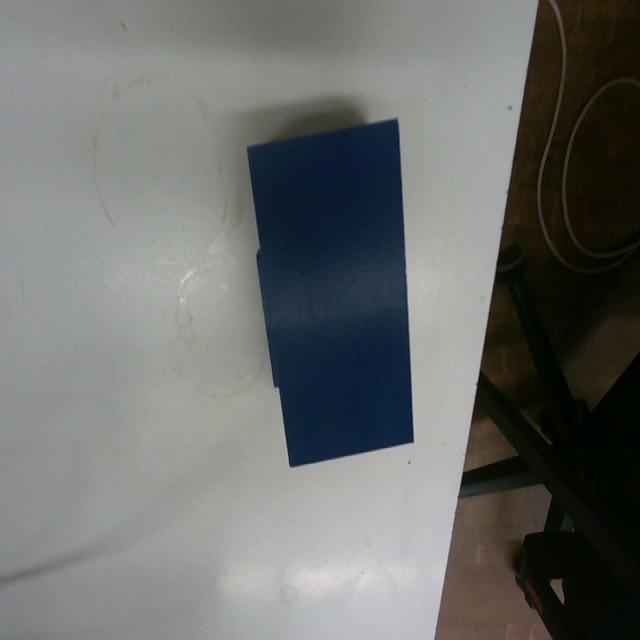Blue Cuboid: (244, 113, 416, 468)
